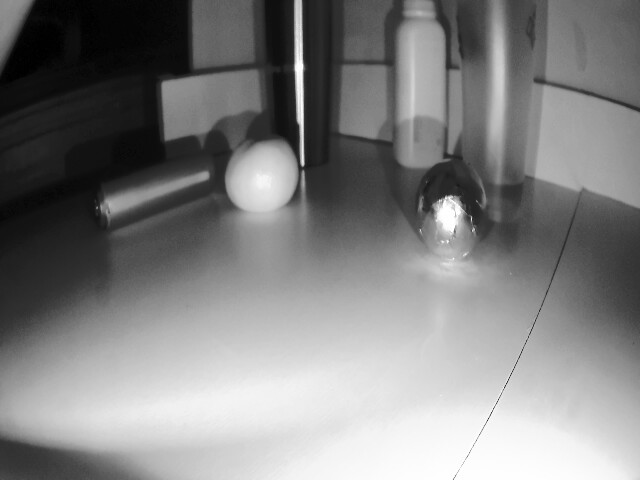black: (408, 149, 491, 261)
